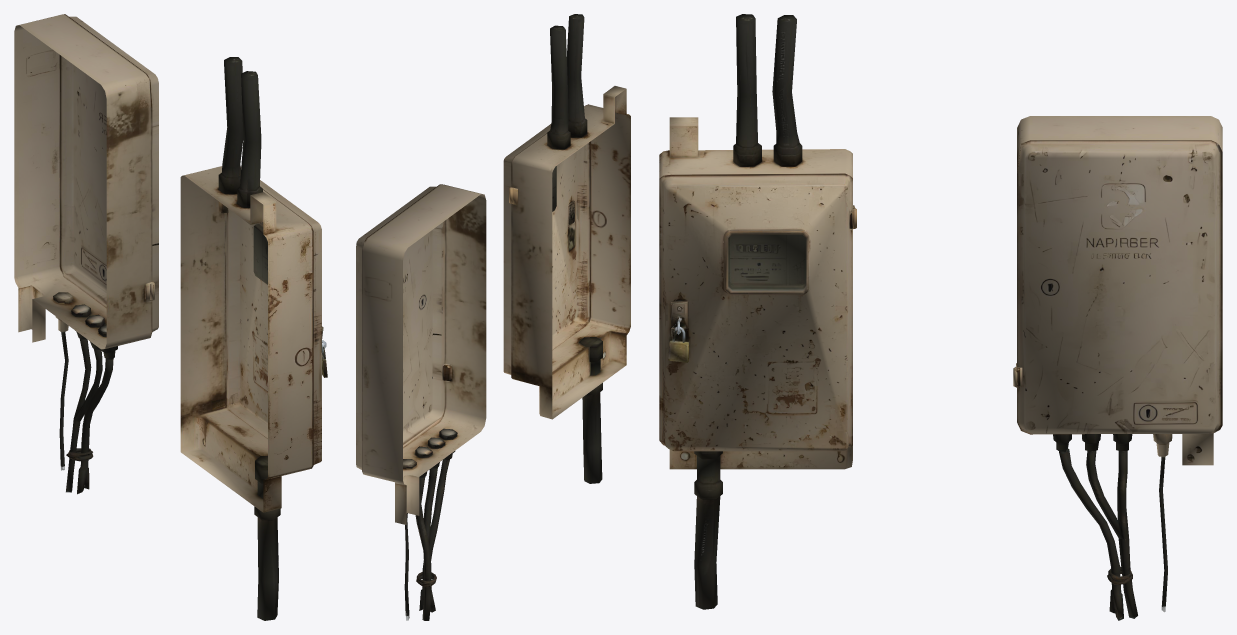
Rendered from CircuitBreaker.fbx.
3 views of the same model, side by side, from view 1: azimuth 30°, elevation 25°; view 2: azimuth 150°, elevation 25°; view 3: azimuth 270°, elevation 25° (orthographic). The views are drawn at different scales.
Parts seen in each view (by area): view 1: tripo_node_be274991-53d9-4102-9fe3-9ab8729d893a.001, tripo_node_be274991-53d9-4102-9fe3-9ab8729d893a; view 2: tripo_node_be274991-53d9-4102-9fe3-9ab8729d893a.001, tripo_node_be274991-53d9-4102-9fe3-9ab8729d893a; view 3: tripo_node_be274991-53d9-4102-9fe3-9ab8729d893a, tripo_node_be274991-53d9-4102-9fe3-9ab8729d893a.001.
Boxes of the visible parts, left/top/right/bottom form: tripo_node_be274991-53d9-4102-9fe3-9ab8729d893a.001: left=180, top=57, right=327, bottom=620; tripo_node_be274991-53d9-4102-9fe3-9ab8729d893a: left=14, top=14, right=158, bottom=494; tripo_node_be274991-53d9-4102-9fe3-9ab8729d893a.001: left=503, top=14, right=630, bottom=483; tripo_node_be274991-53d9-4102-9fe3-9ab8729d893a: left=356, top=184, right=486, bottom=620; tripo_node_be274991-53d9-4102-9fe3-9ab8729d893a: left=1013, top=116, right=1222, bottom=620; tripo_node_be274991-53d9-4102-9fe3-9ab8729d893a.001: left=659, top=14, right=856, bottom=609.
Bounding box in the file's own units: 13.09 × 99.8 × 84.57.
Materials: 1 (1 with a texture image).
